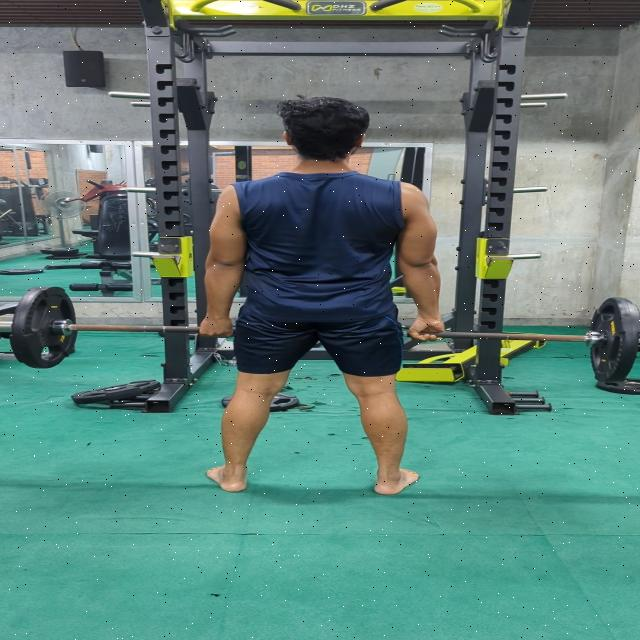Normal_Deadlifts: (196, 95, 445, 498)
